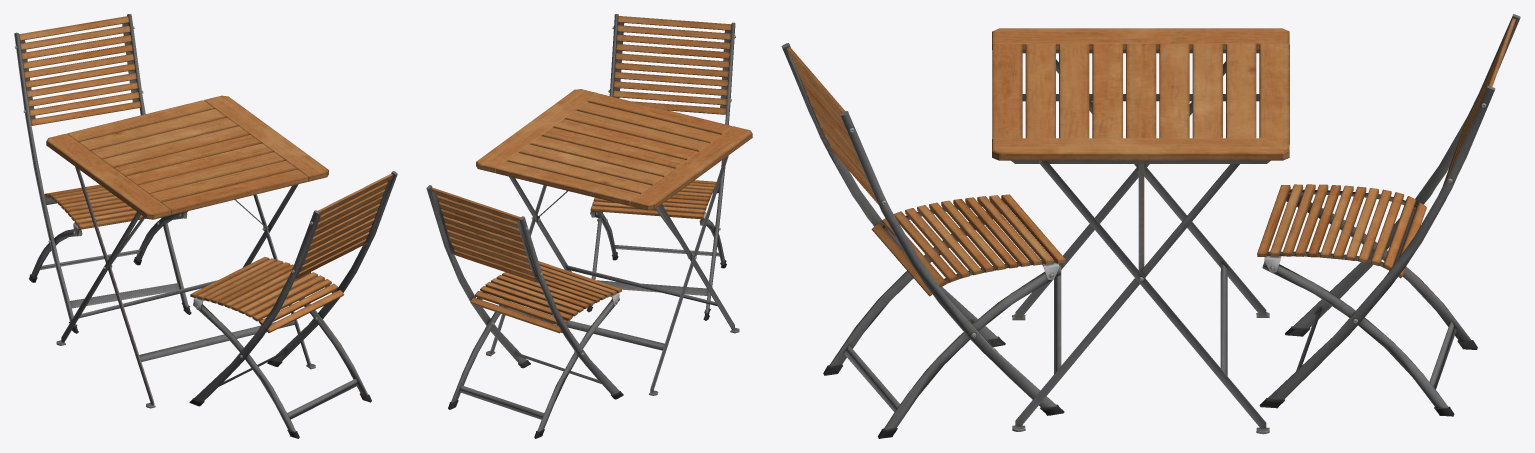
File: isl_cafe.glb
The picture shows the model from 3 angles, left to right: view 1: azimuth 30°, elevation 25°; view 2: azimuth 150°, elevation 25°; view 3: azimuth 270°, elevation 25°; orthographic projection. The views are drawn at different scales.
Parts seen in each view (by area): view 1: outdoor_table_chair_set_01_chair_01; view 2: outdoor_table_chair_set_01_chair_01; view 3: outdoor_table_chair_set_01_chair_01.
Part boxes in pixels (x1,y1,x2,y2): outdoor_table_chair_set_01_chair_01: [14, 14, 397, 438]; outdoor_table_chair_set_01_chair_01: [426, 14, 752, 438]; outdoor_table_chair_set_01_chair_01: [781, 14, 1520, 438].
Bounding box in the file's own units: 0.742 × 0.8586 × 1.72.
2 materials, 2 textured.
